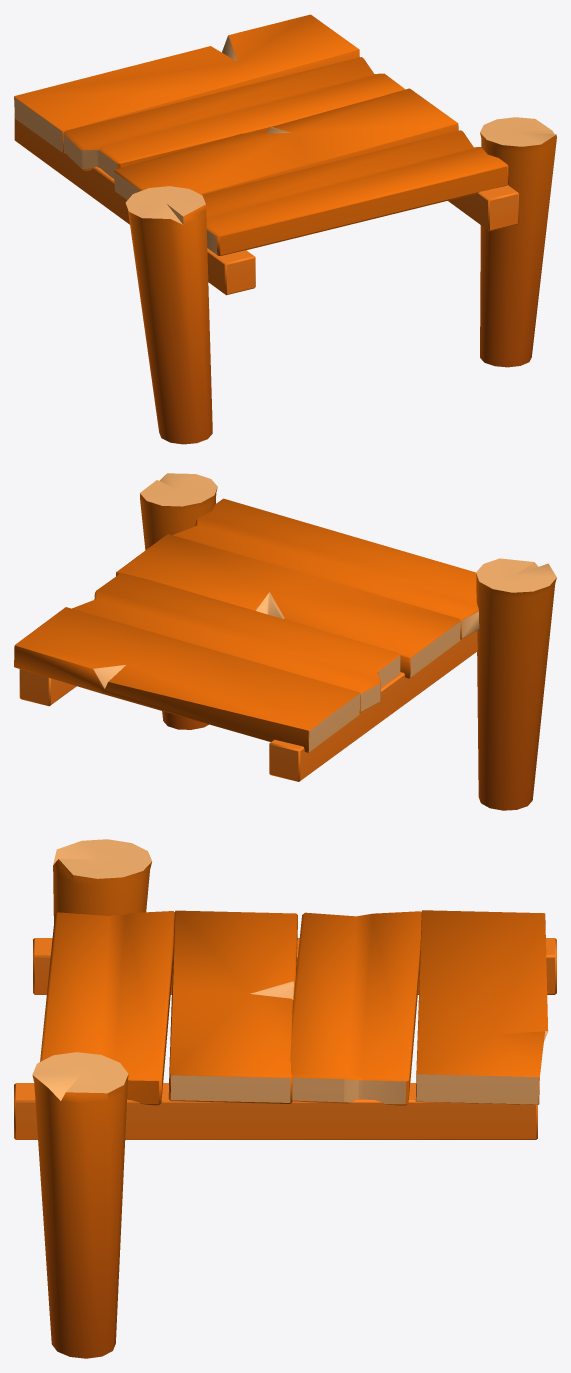
Rendered from Prop_Wooden_Dock_01.fbx.
3 views of the same model, one above another, from view 1: azimuth 30°, elevation 25°; view 2: azimuth 150°, elevation 25°; view 3: azimuth 270°, elevation 25° (orthographic). The views are drawn at different scales.
Parts seen in each view (by area): view 1: Prop_Wooden_Dock_01; view 2: Prop_Wooden_Dock_01; view 3: Prop_Wooden_Dock_01.
Part boxes in pixels (box(x1,y1,x2,y2)): Prop_Wooden_Dock_01: box(14, 14, 556, 444); Prop_Wooden_Dock_01: box(14, 473, 556, 810); Prop_Wooden_Dock_01: box(14, 839, 556, 1358).
Bounding box in the file's own units: 206 × 111 × 191.
